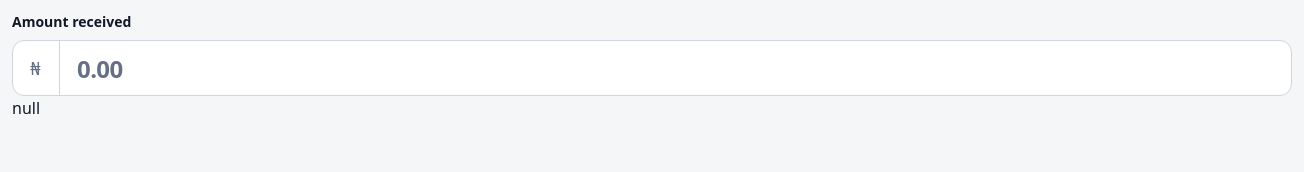
Test: MoneyInput › shows an inline error for 1.2.3 and keeps the text as typed
In the field labelled "Amount received": (652, 68) [12,40,1292,96], type "1.2.3"
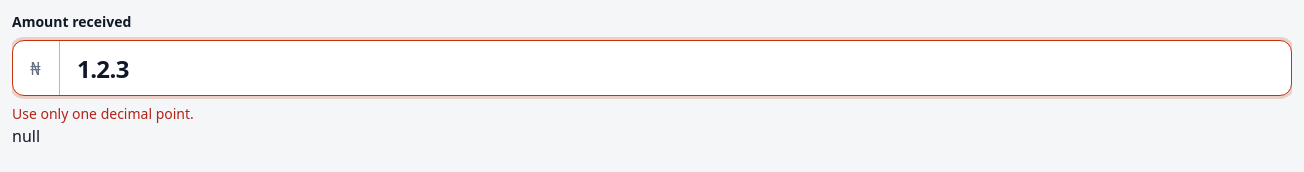
Expected: the text with test id "kobo" reads "null", [12,125,40,147]
Expected: the message reads "Use only one decimal point.", [12,104,194,123]
